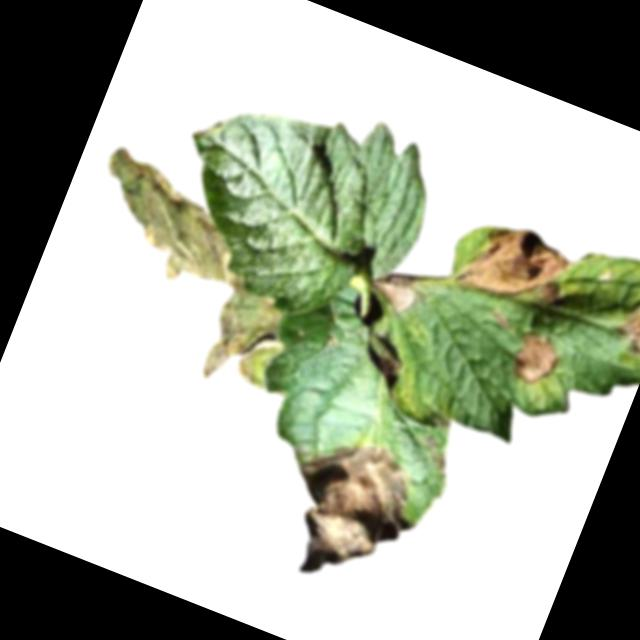Late_blight: (261, 421, 435, 605), (76, 144, 261, 301), (450, 208, 585, 325), (194, 282, 293, 402), (508, 328, 566, 393), (367, 263, 427, 317), (610, 273, 640, 361), (410, 431, 457, 480), (366, 347, 408, 395), (489, 309, 518, 332)
healthy: (143, 57, 455, 350)
